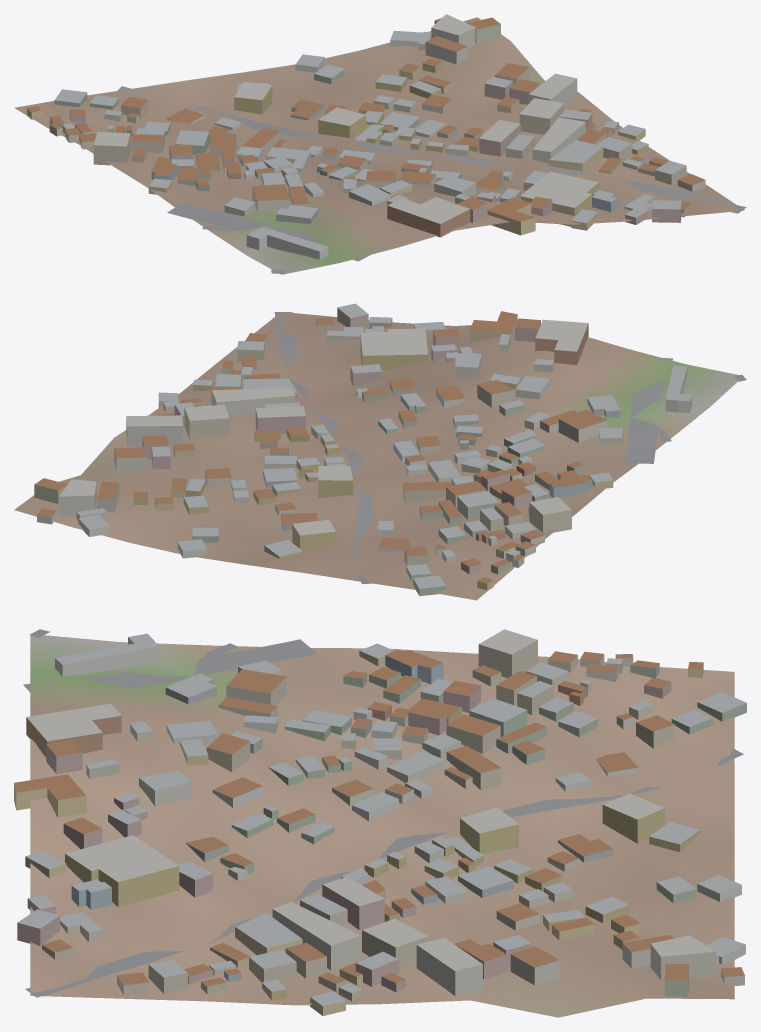
3 renders of one model, top to bottom at view 1: azimuth 30°, elevation 25°; view 2: azimuth 150°, elevation 25°; view 3: azimuth 270°, elevation 25°, orthographic. The views are drawn at different scales.
Visible parts, largest first — view 1: Lo; view 2: Lo; view 3: Lo.
Part boxes in pixels (<box>): Lo: <box>14,14,746,274</box>; Lo: <box>14,303,746,600</box>; Lo: <box>14,629,746,1017</box>.
Size of the model in its own units: 269 by 41.72 by 266.
